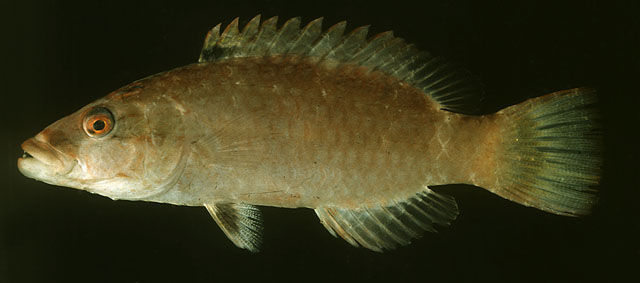fish: (17, 15, 600, 253)
